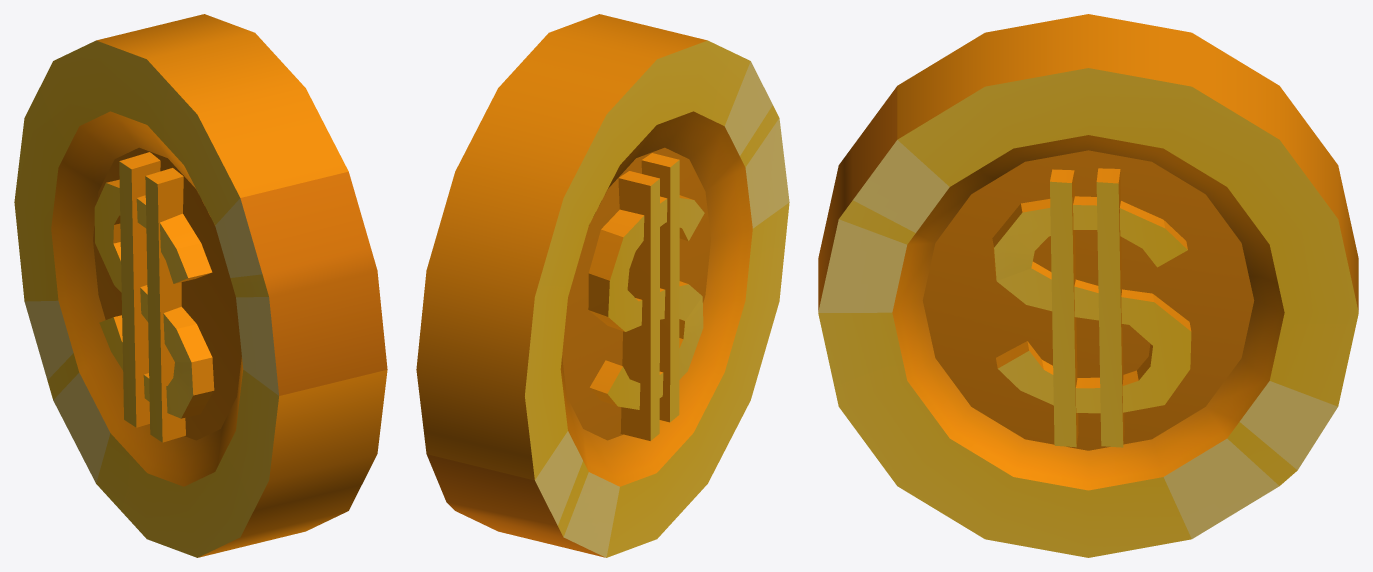
File: Coin.fbx
3 views of the same model, side by side, from view 1: azimuth 30°, elevation 25°; view 2: azimuth 150°, elevation 25°; view 3: azimuth 270°, elevation 25° (orthographic). The views are drawn at different scales.
Parts seen in each view (by area): view 1: Coin; view 2: Coin; view 3: Coin.
Boxes of the visible parts, box(x1,y1,x2,y2) form: Coin: box(14, 14, 387, 557); Coin: box(416, 14, 789, 557); Coin: box(818, 14, 1358, 557).
Size of the model in its own units: 4.28 by 15.32 by 15.32.
